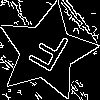F: (21, 26, 72, 82)
